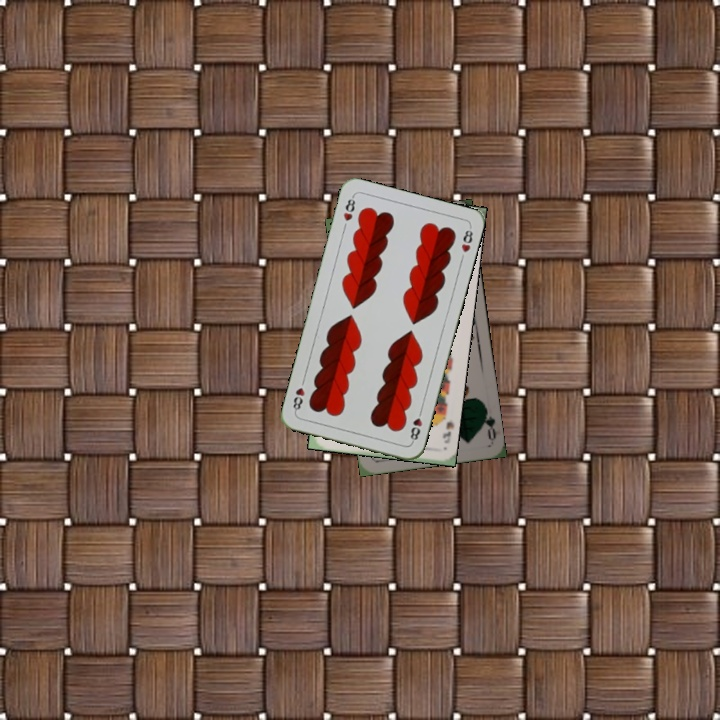GO: (478, 402, 499, 442)
H8: (406, 405, 425, 445), (339, 192, 358, 224)
S9: (436, 412, 456, 446)
